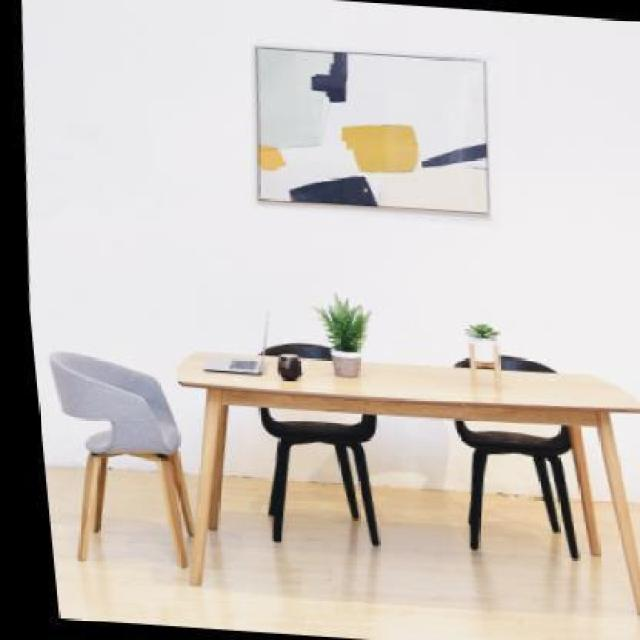tables: (176, 350, 638, 616)
